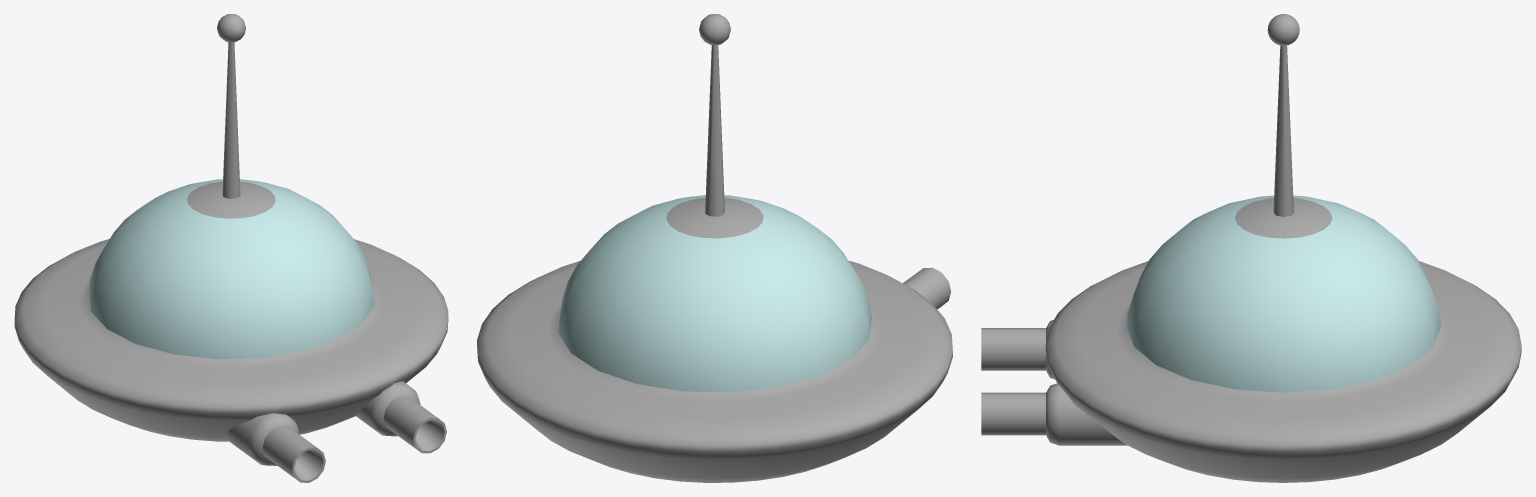
Rendered from SpaceShip_TurnedAround.fbx.
The picture shows the model from 3 angles, left to right: view 1: azimuth 30°, elevation 25°; view 2: azimuth 150°, elevation 25°; view 3: azimuth 270°, elevation 25°; orthographic projection. The views are drawn at different scales.
Visible parts, largest first — view 1: polySurface3; view 2: polySurface3; view 3: polySurface3.
Boxes of the visible parts, bbox=[...] form: polySurface3: bbox=[14, 14, 448, 482]; polySurface3: bbox=[477, 14, 952, 482]; polySurface3: bbox=[981, 14, 1521, 482].
Size of the model in its own units: 9.95 by 9.3 by 11.3.
